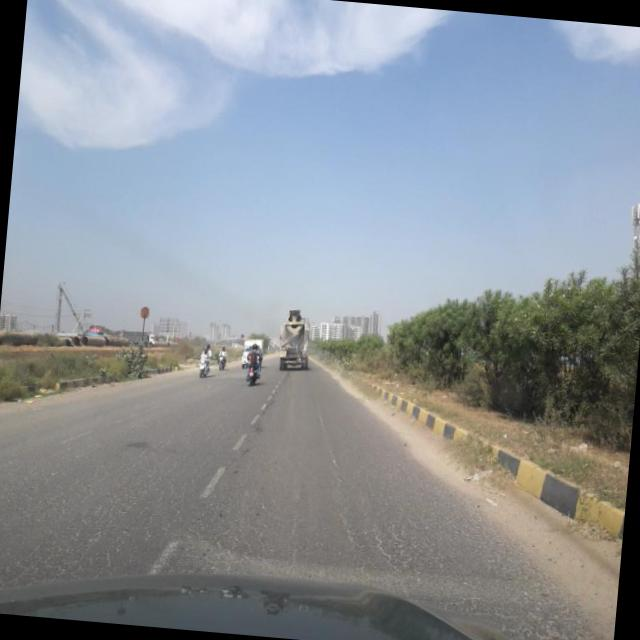crack: (0, 396, 282, 583), (351, 440, 594, 602)
pothole: (304, 404, 365, 550)
